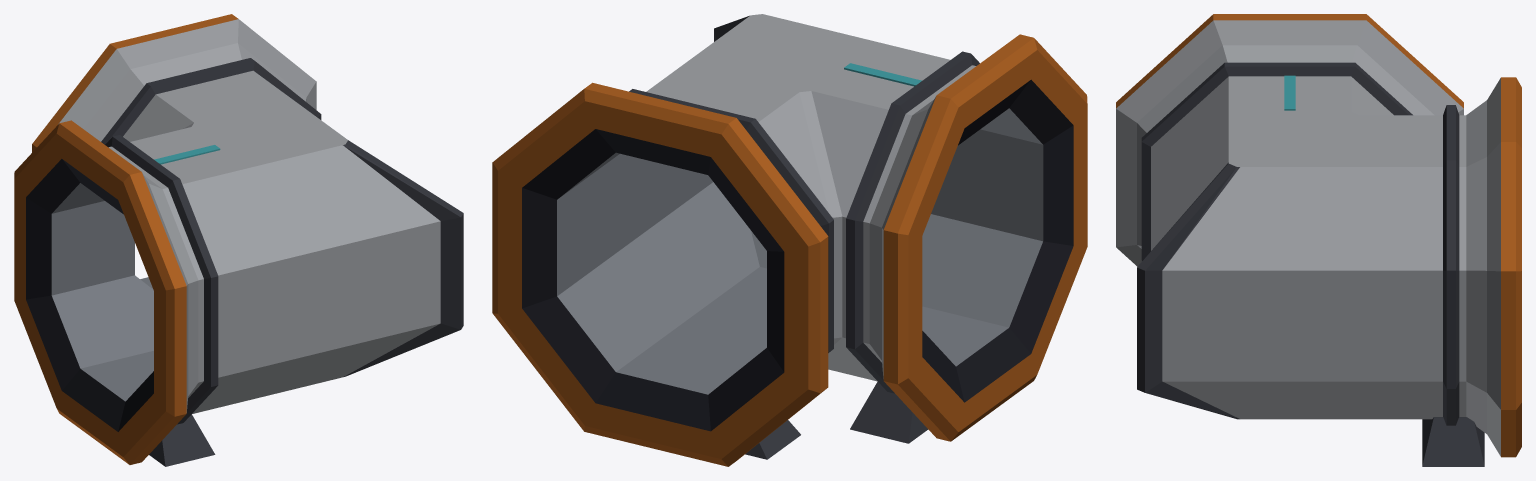
Rendered from corridor-corner-8661f8.glb.
3 renders of one model, left to right at view 1: azimuth 30°, elevation 25°; view 2: azimuth 150°, elevation 25°; view 3: azimuth 270°, elevation 25°, orthographic. The views are drawn at different scales.
Parts seen in each view (by area): view 1: corridor-corner-shell; view 2: corridor-corner-shell; view 3: corridor-corner-shell.
Boxes of the visible parts, bbox=[...] form: corridor-corner-shell: bbox=[14, 14, 463, 466]; corridor-corner-shell: bbox=[492, 14, 1087, 466]; corridor-corner-shell: bbox=[1116, 14, 1521, 466].
Size of the model in its own units: 3.5 by 3 by 3.5.
